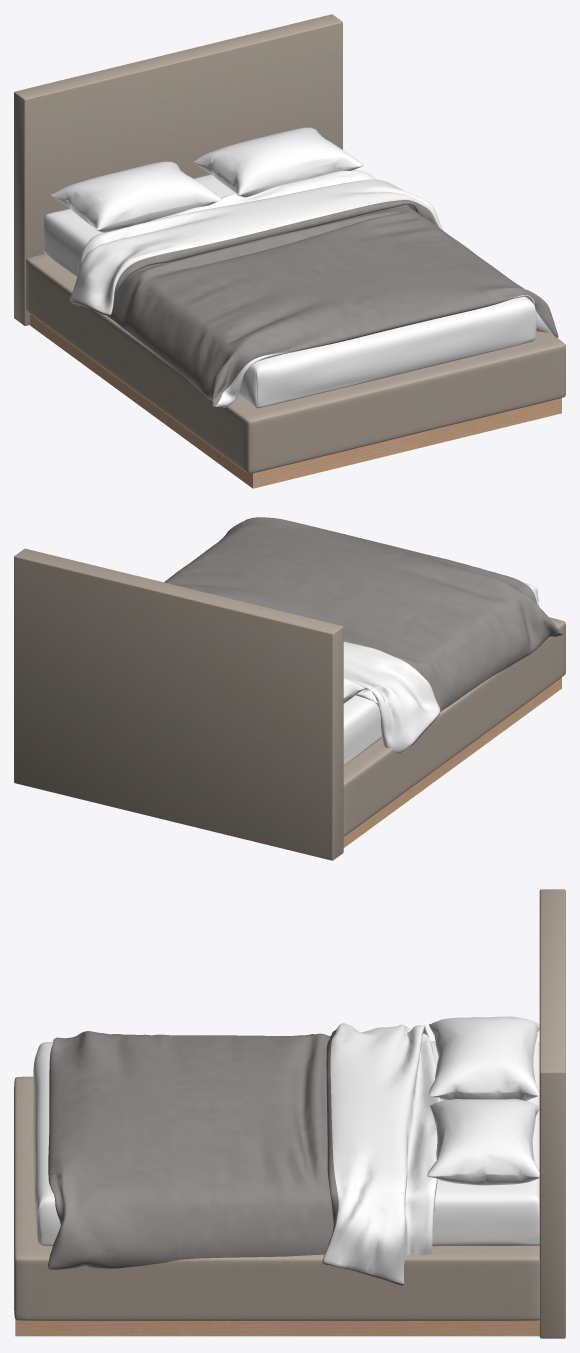
3 views of the same model, one above another, from view 1: azimuth 30°, elevation 25°; view 2: azimuth 150°, elevation 25°; view 3: azimuth 270°, elevation 25° (orthographic). The views are drawn at different scales.
Parts seen in each view (by area): view 1: Plane001_f1ef8d8161f54ddea7a44c62e43347c5, Box02_f3fefe99139545669a9f8d4204ac354b, Box03_c9d75f6f91b44a5fb57e55a87fcf3e35, ChamferBox01_0bea0964eeea45eeb4563a064dd13b39, Plane022_9be55b28cddd4c3a9e81f8096522cef1, Box04_115fe1f63af54feba9f31a04e4356948; view 2: Box02_f3fefe99139545669a9f8d4204ac354b, Plane001_f1ef8d8161f54ddea7a44c62e43347c5, Box03_c9d75f6f91b44a5fb57e55a87fcf3e35, Box04_115fe1f63af54feba9f31a04e4356948, ChamferBox01_0bea0964eeea45eeb4563a064dd13b39; view 3: Plane001_f1ef8d8161f54ddea7a44c62e43347c5, Box03_c9d75f6f91b44a5fb57e55a87fcf3e35, Plane022_9be55b28cddd4c3a9e81f8096522cef1, Box02_f3fefe99139545669a9f8d4204ac354b, ChamferBox01_0bea0964eeea45eeb4563a064dd13b39, Box04_115fe1f63af54feba9f31a04e4356948.
Boxes of the visible parts, bbox=[...] form: Plane001_f1ef8d8161f54ddea7a44c62e43347c5: bbox=[70, 170, 558, 407]; Box02_f3fefe99139545669a9f8d4204ac354b: bbox=[14, 14, 342, 325]; Box03_c9d75f6f91b44a5fb57e55a87fcf3e35: bbox=[26, 253, 565, 473]; ChamferBox01_0bea0964eeea45eeb4563a064dd13b39: bbox=[43, 174, 536, 408]; Plane022_9be55b28cddd4c3a9e81f8096522cef1: bbox=[51, 127, 363, 232]; Box04_115fe1f63af54feba9f31a04e4356948: bbox=[30, 314, 561, 488]; Box02_f3fefe99139545669a9f8d4204ac354b: bbox=[14, 548, 343, 860]; Plane001_f1ef8d8161f54ddea7a44c62e43347c5: bbox=[164, 517, 562, 754]; Box03_c9d75f6f91b44a5fb57e55a87fcf3e35: bbox=[343, 617, 565, 836]; Box04_115fe1f63af54feba9f31a04e4356948: bbox=[343, 677, 561, 847]; ChamferBox01_0bea0964eeea45eeb4563a064dd13b39: bbox=[343, 582, 538, 765]; Plane001_f1ef8d8161f54ddea7a44c62e43347c5: bbox=[48, 1023, 439, 1285]; Box03_c9d75f6f91b44a5fb57e55a87fcf3e35: bbox=[14, 1076, 539, 1320]; Plane022_9be55b28cddd4c3a9e81f8096522cef1: bbox=[427, 1016, 539, 1185]; Box02_f3fefe99139545669a9f8d4204ac354b: bbox=[539, 889, 565, 1338]; ChamferBox01_0bea0964eeea45eeb4563a064dd13b39: bbox=[33, 1041, 539, 1246]; Box04_115fe1f63af54feba9f31a04e4356948: bbox=[15, 1319, 539, 1336].
Bounding box in the file's own units: 1.85 × 1.15 × 2.15.
Materials: 4 (3 with a texture image).
